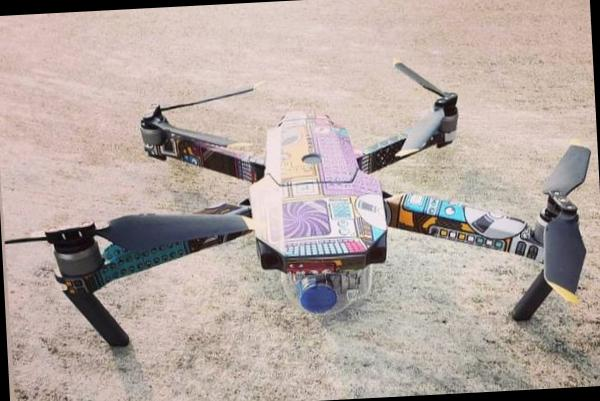drone: (11, 34, 600, 387)
